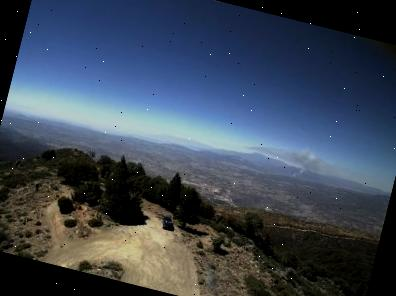smoke: (237, 131, 343, 188)
